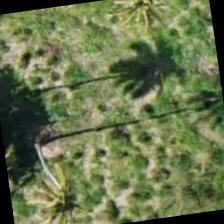Kelapa_Sawit: (0, 93, 88, 194)
